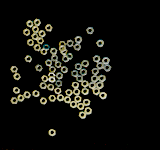nut: (96, 39, 105, 47), (102, 57, 111, 65), (79, 111, 87, 120), (34, 18, 42, 26), (45, 24, 53, 32), (27, 39, 35, 47), (37, 37, 45, 45), (34, 44, 42, 52), (74, 43, 82, 51), (60, 48, 68, 56), (66, 52, 74, 60), (62, 55, 70, 63), (50, 47, 58, 55), (25, 55, 33, 63), (14, 73, 22, 81), (93, 55, 101, 63), (97, 62, 105, 70), (104, 64, 112, 72), (82, 60, 90, 68), (75, 63, 83, 71), (80, 68, 88, 76), (91, 75, 99, 83), (41, 75, 49, 83), (40, 97, 48, 105), (57, 94, 65, 102), (72, 81, 80, 89), (93, 88, 101, 96), (100, 92, 108, 100), (65, 89, 73, 97), (64, 96, 72, 104), (83, 99, 91, 107), (70, 101, 78, 109), (77, 103, 85, 111), (85, 107, 93, 115), (27, 20, 34, 28), (32, 26, 40, 33), (87, 27, 95, 34), (75, 36, 83, 43), (67, 39, 74, 47), (59, 41, 67, 48), (59, 44, 66, 52), (43, 44, 51, 51), (41, 48, 48, 56), (51, 55, 59, 62), (36, 64, 43, 72), (11, 66, 19, 73), (13, 87, 21, 94), (46, 59, 53, 67), (55, 61, 62, 69), (61, 66, 68, 74), (92, 68, 100, 75), (99, 74, 106, 82), (72, 70, 79, 78), (49, 66, 57, 73), (49, 76, 57, 83), (77, 75, 84, 83), (82, 80, 89, 88), (56, 80, 63, 88), (47, 84, 55, 91), (40, 82, 47, 90), (33, 90, 40, 98), (55, 87, 62, 95), (49, 95, 57, 102), (89, 82, 96, 90), (96, 82, 104, 89), (82, 88, 89, 96), (73, 89, 81, 96), (49, 129, 56, 137), (24, 29, 31, 36), (39, 30, 46, 37), (32, 33, 39, 40), (56, 72, 63, 79), (11, 97, 18, 104), (18, 95, 25, 102), (24, 92, 31, 99), (75, 96, 82, 103), (48, 72, 56, 78)
